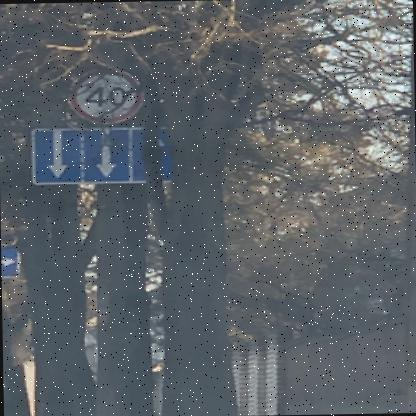speedlimit: (66, 66, 138, 121)
